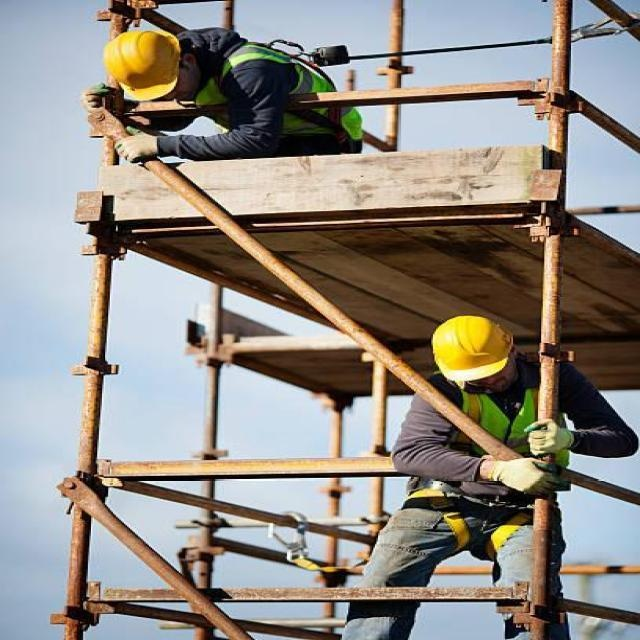Arnes_seguridad: (405, 361, 559, 556), (195, 28, 374, 153), (526, 416, 582, 455)
